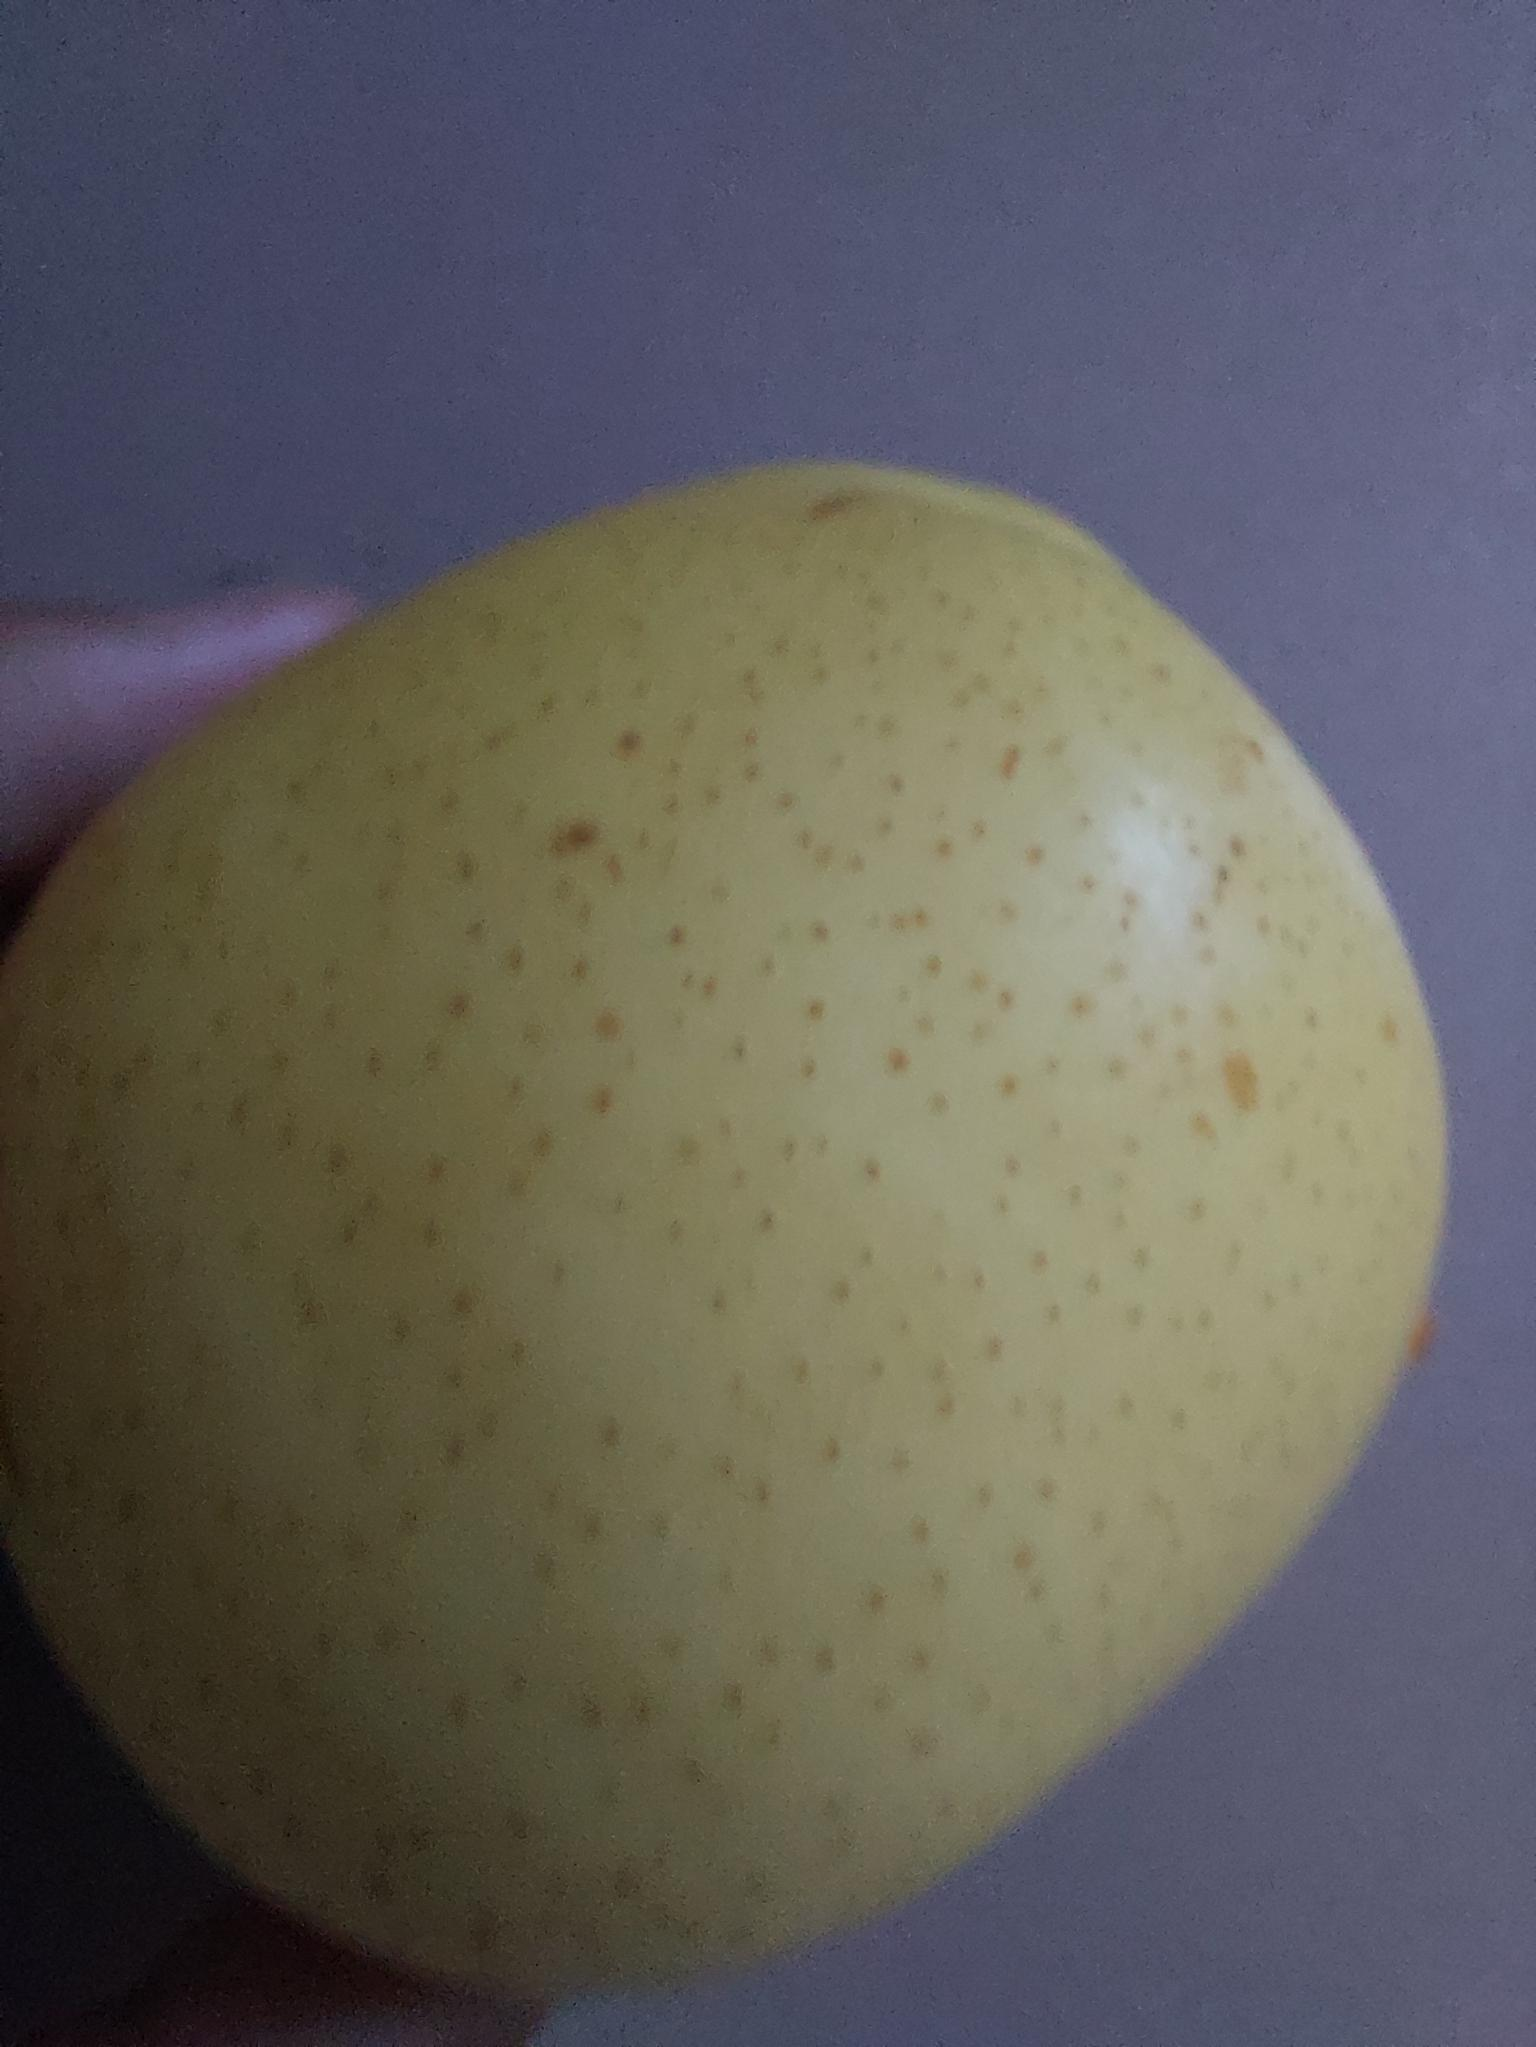Good Pear: (8, 447, 1457, 2015)
